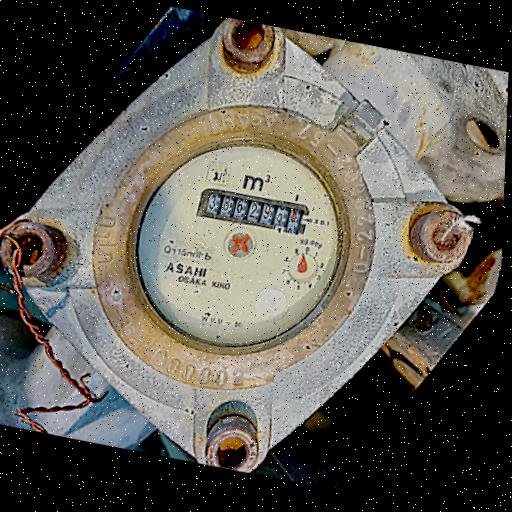2: (247, 199, 262, 221)
3: (205, 192, 222, 214)
6: (234, 197, 247, 220)
8: (285, 207, 300, 234), (220, 194, 234, 217)
9: (260, 201, 275, 224), (274, 204, 289, 227)
border_water_meter_number: (194, 180, 313, 241)
